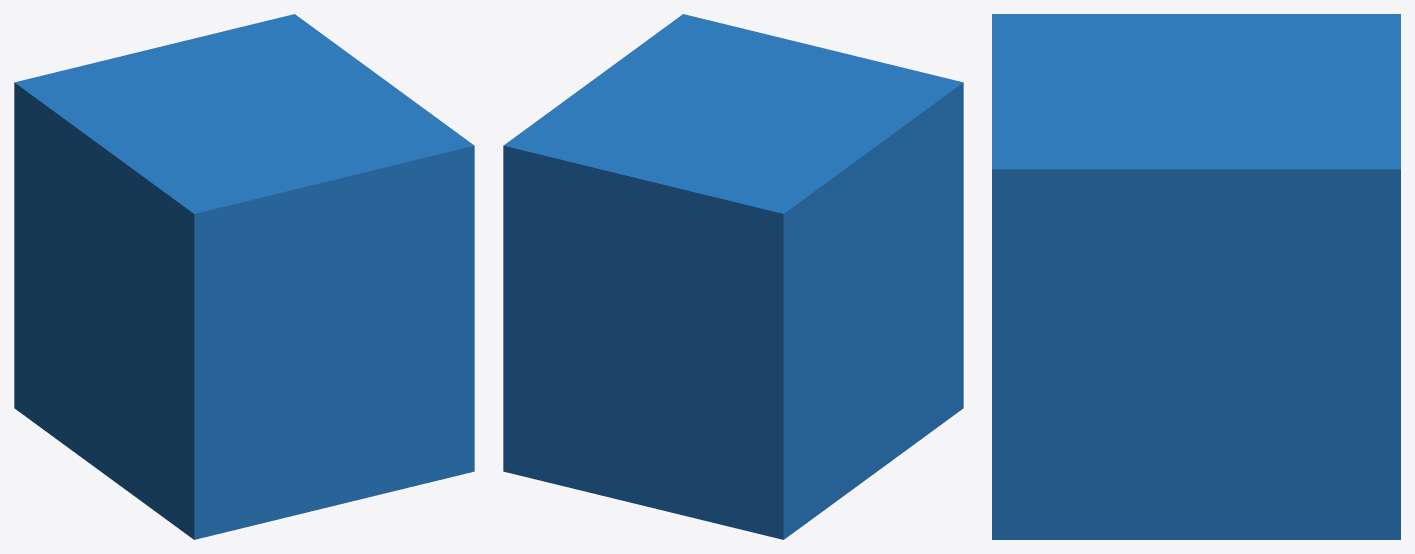
Rendered from Block2.glb.
The picture shows the model from 3 angles, left to right: view 1: azimuth 30°, elevation 25°; view 2: azimuth 150°, elevation 25°; view 3: azimuth 270°, elevation 25°; orthographic projection. The views are drawn at different scales.
Parts seen in each view (by area): view 1: Block2; view 2: Block2; view 3: Block2.
Boxes of the visible parts, x1=… form: Block2: x1=14, y1=14, x2=474, y2=539; Block2: x1=503, y1=14, x2=963, y2=539; Block2: x1=992, y1=14, x2=1400, y2=539.
Size of the model in its own units: 9 by 10 by 10.
